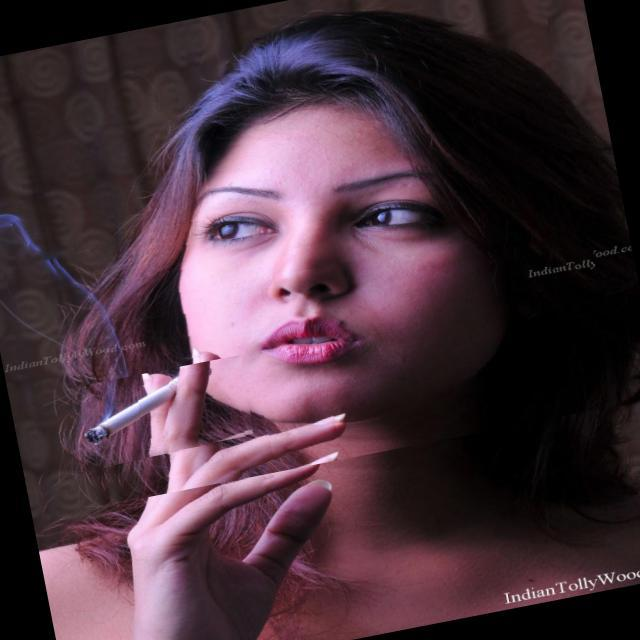cigarette: (51, 355, 258, 476)
